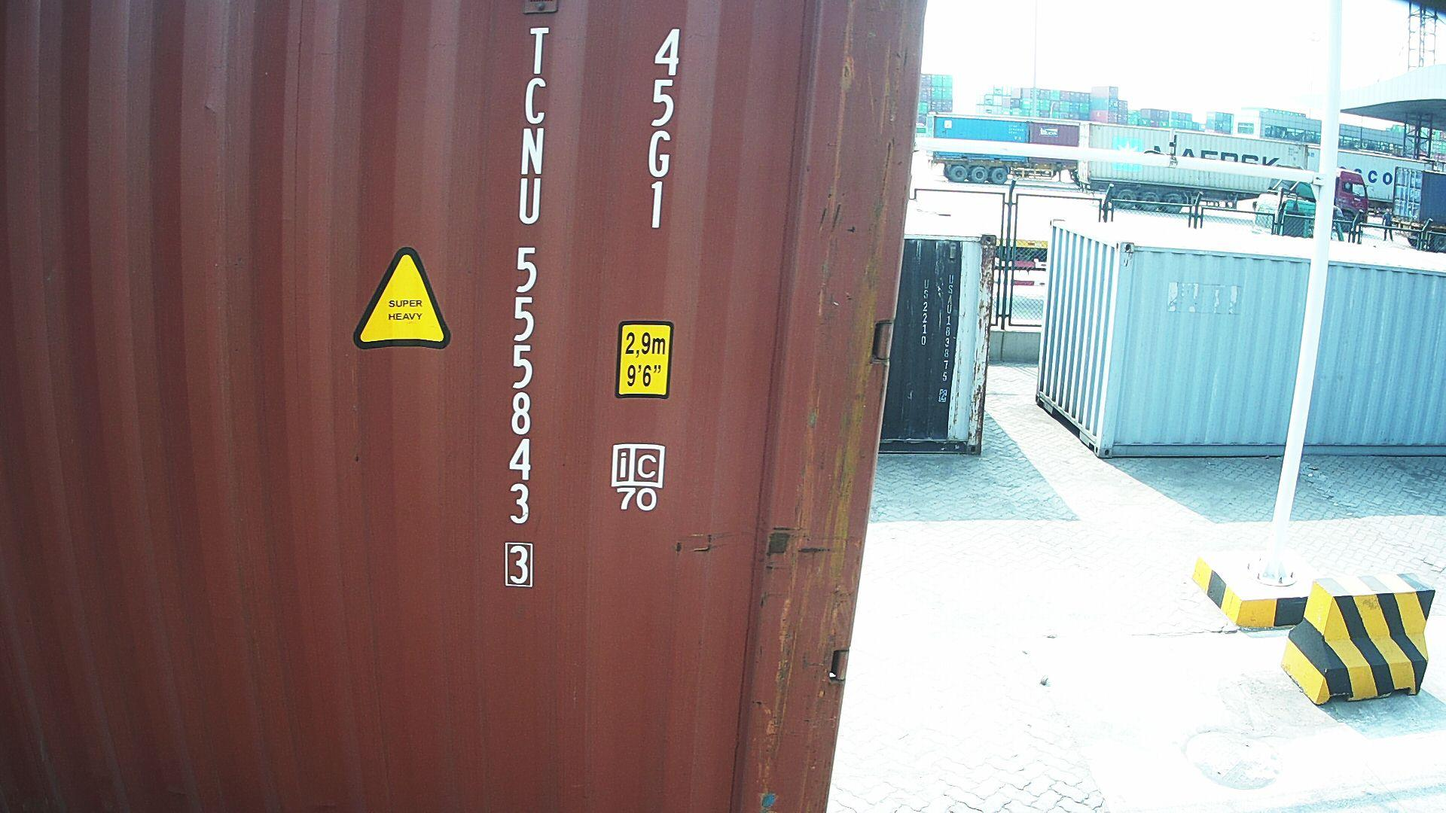container-numbers: (499, 20, 552, 595), (637, 23, 687, 236)
